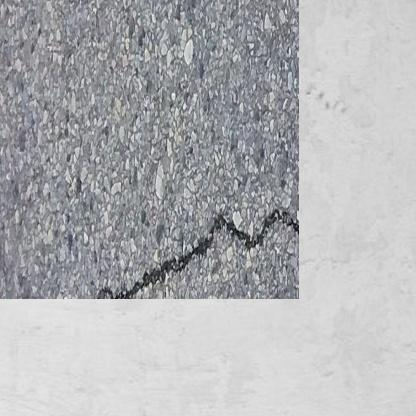Cracks: (87, 192, 276, 277)
